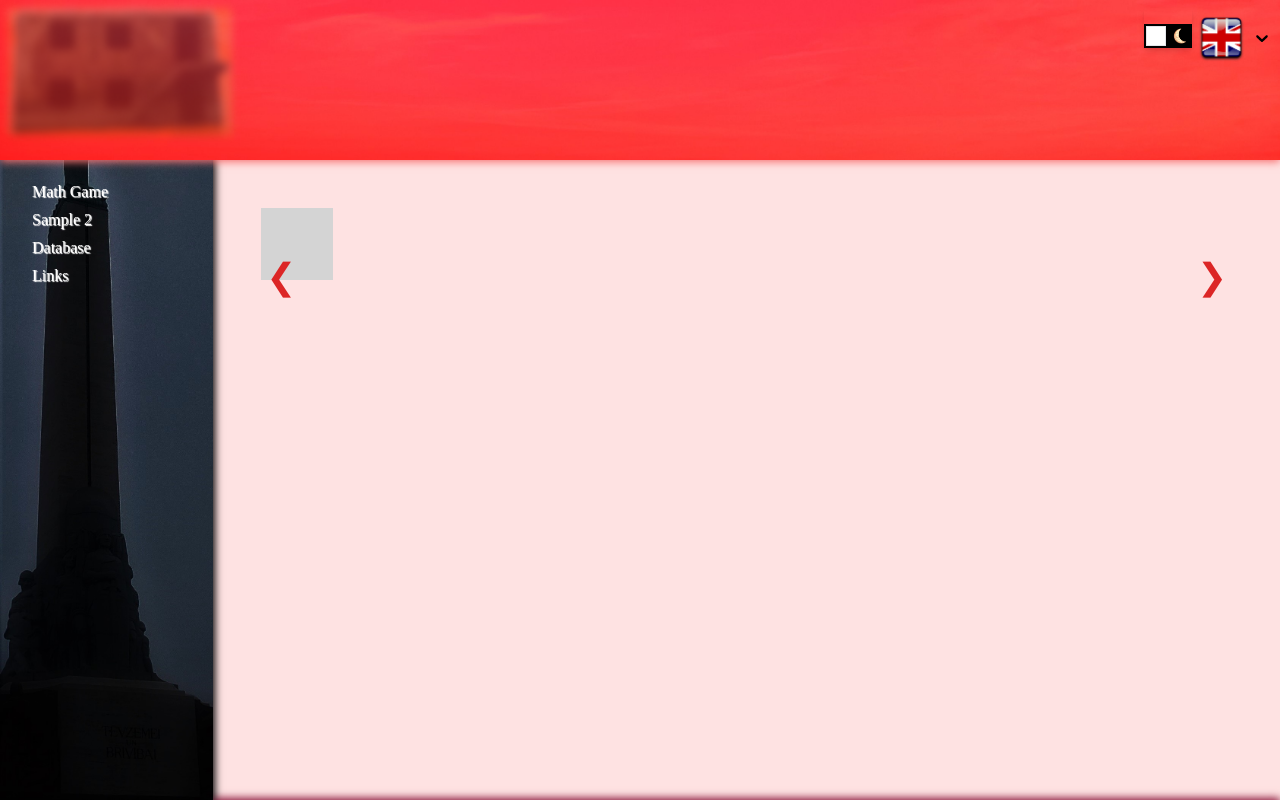
Test case: LeftNavBar › should render the navbar link Sample 2 and render content $content when the link is clicked
The image size is (1280, 800).
Expected: the text "Sample 2!" is not shown
Click the link "Sample 2": (62, 220) [32, 211, 92, 228]
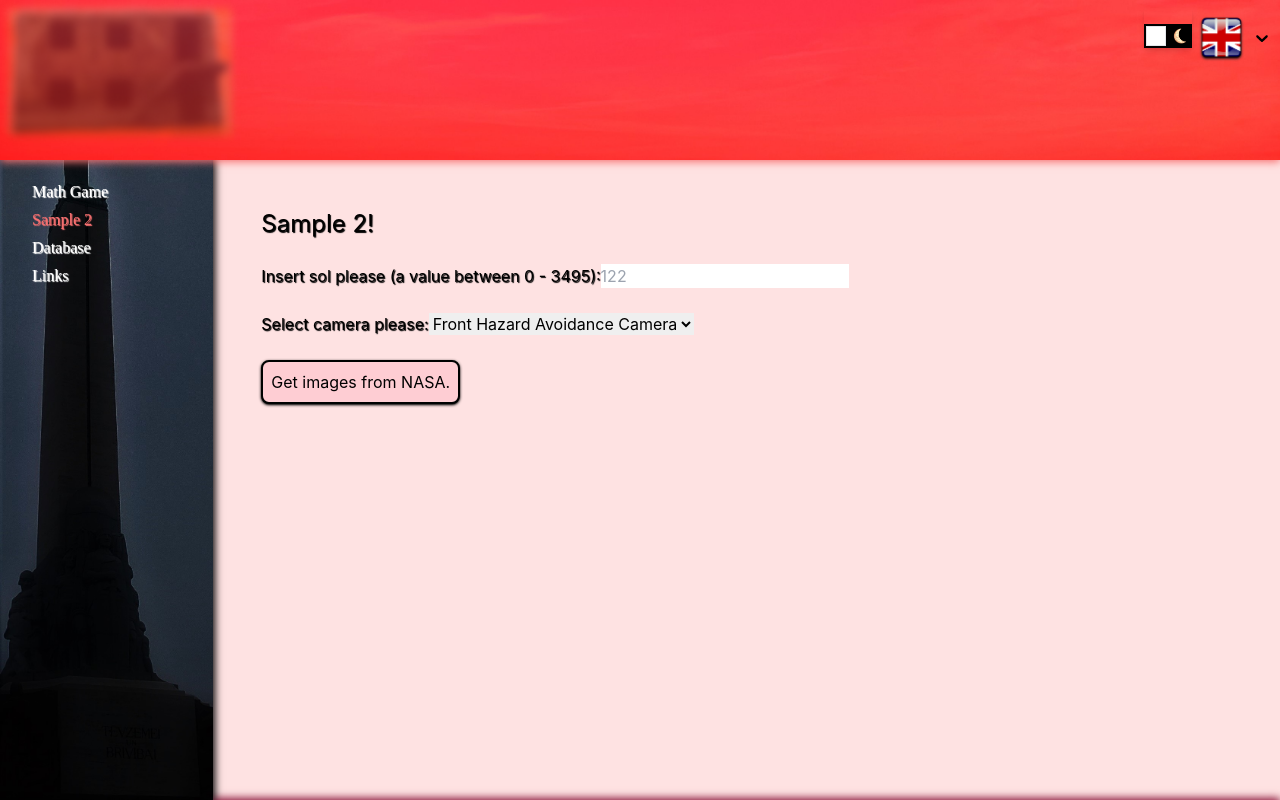
Now the heading "Sample 2!" is shown, box [261, 209, 374, 238]
Now the picture with alt text "slideshow-0" is gone
